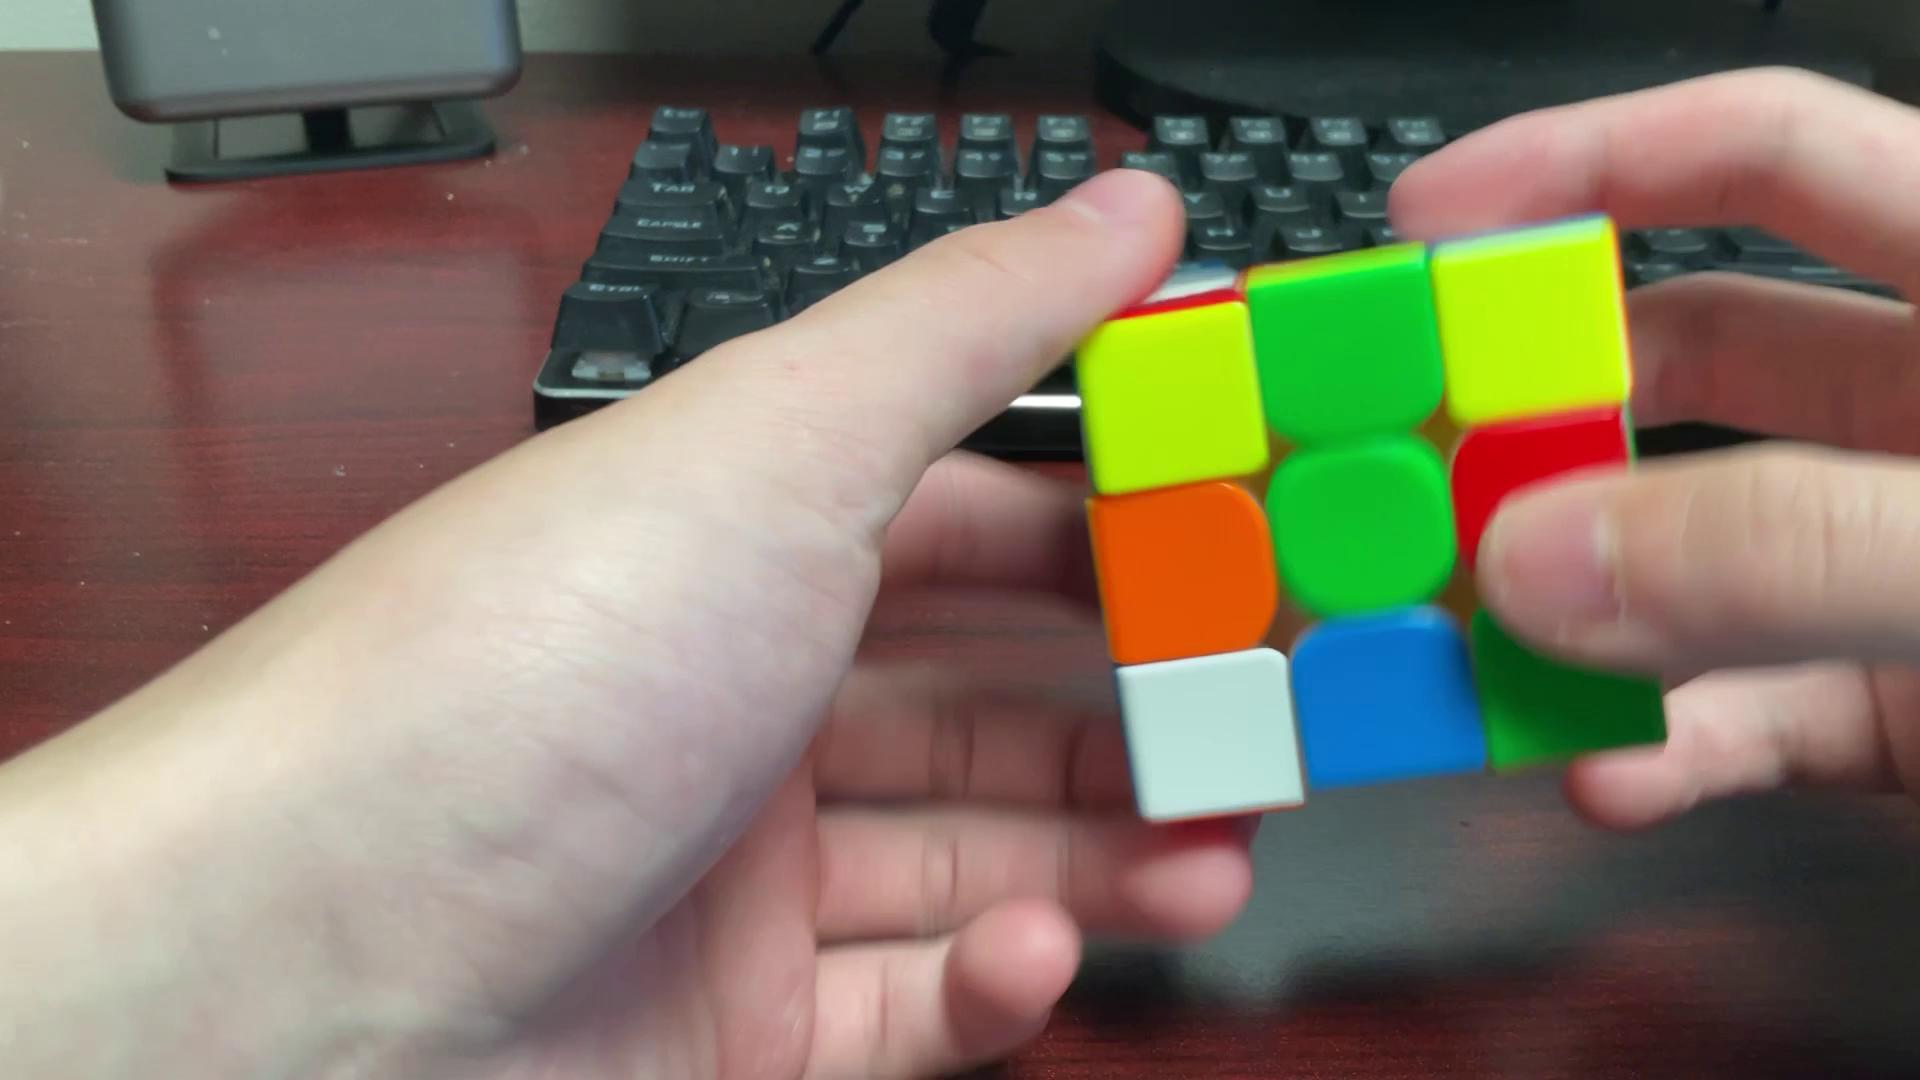Rubiks-Cube: (1056, 204, 1684, 827)
